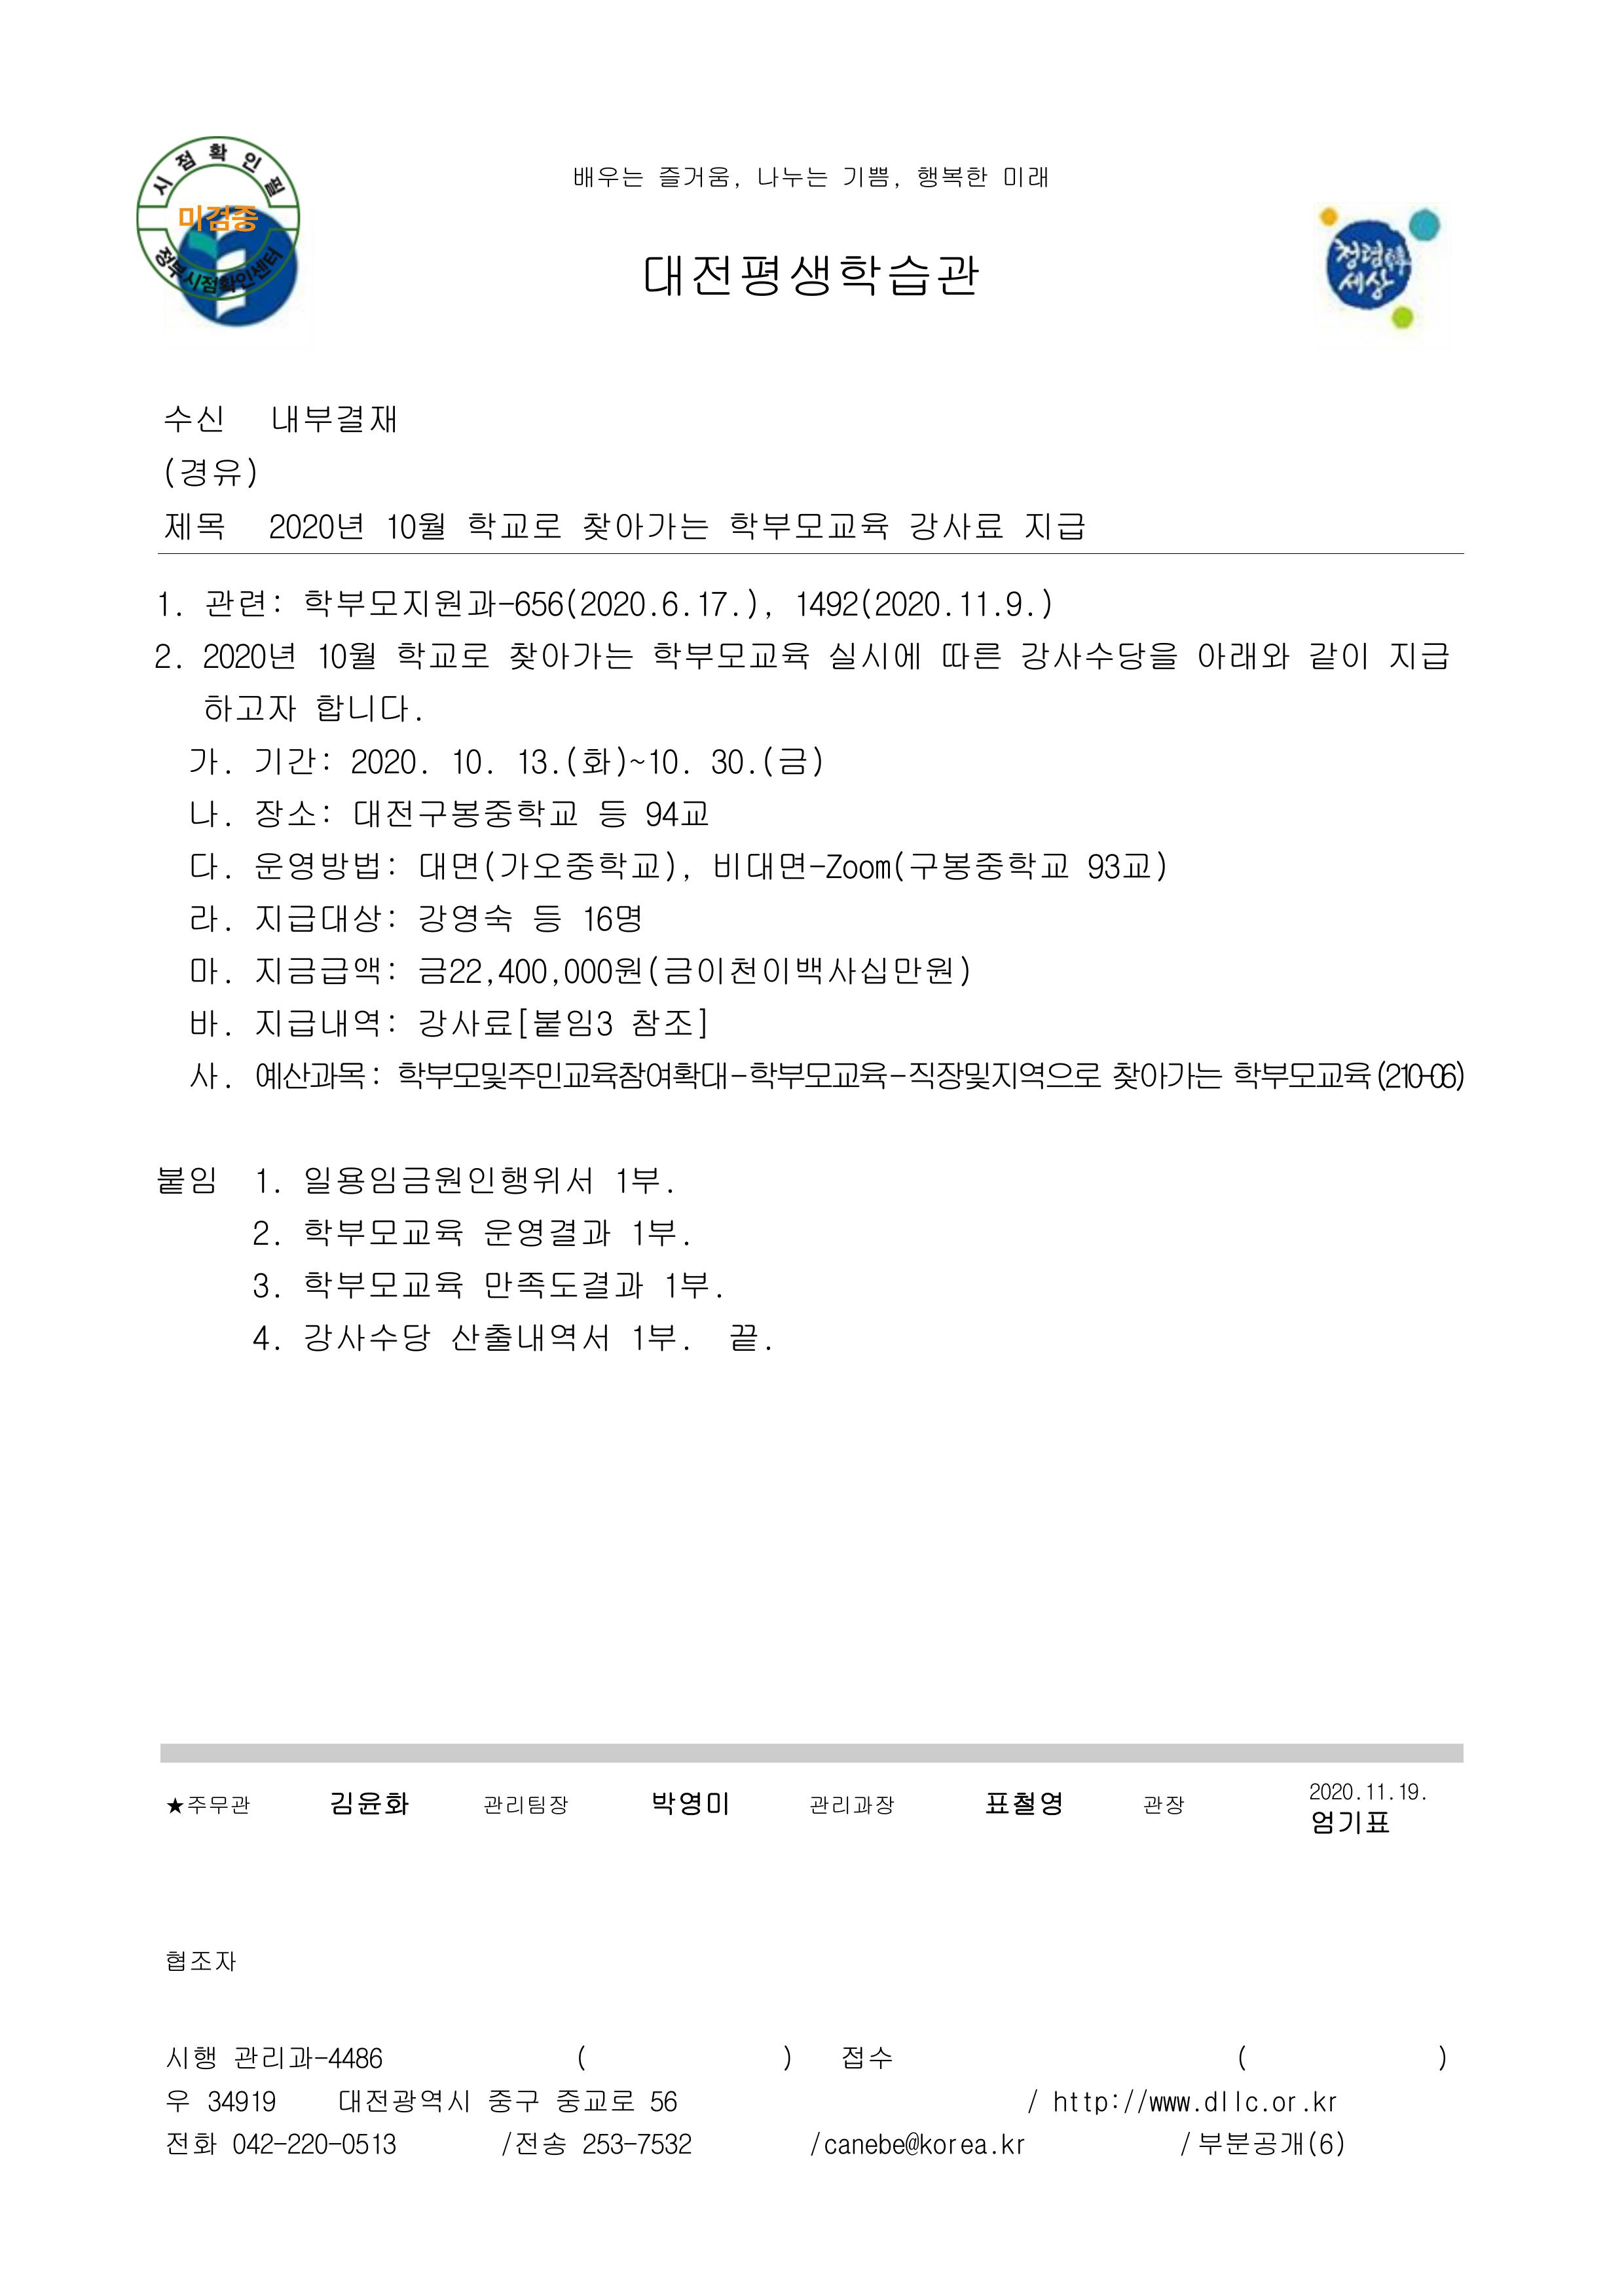t: (642, 251, 982, 304), (301, 583, 773, 620), (394, 1058, 731, 1093), (301, 1162, 596, 1200), (417, 845, 685, 886), (710, 845, 910, 886), (417, 1003, 617, 1044), (352, 796, 580, 831), (761, 954, 972, 989), (903, 1058, 1100, 1093), (907, 845, 1069, 886), (728, 506, 889, 545), (649, 634, 810, 673), (793, 583, 958, 620), (480, 1265, 645, 1300), (255, 845, 397, 886), (1018, 638, 1179, 673), (301, 1216, 462, 1251), (301, 1265, 462, 1300), (448, 1320, 610, 1355), (251, 951, 397, 989), (251, 1003, 397, 1040), (228, 2126, 397, 2158), (251, 900, 397, 935), (745, 1058, 889, 1093), (1230, 1058, 1373, 1093), (559, 742, 691, 778), (1193, 2126, 1345, 2158), (269, 401, 397, 438), (576, 510, 710, 545), (480, 1216, 613, 1251), (301, 1320, 434, 1355), (334, 2082, 473, 2116), (506, 638, 634, 673), (251, 1058, 369, 1093), (1107, 1058, 1223, 1093), (824, 2130, 961, 2158), (576, 2126, 696, 2158), (953, 583, 1055, 620), (156, 455, 262, 490), (311, 689, 417, 724), (417, 900, 520, 935), (265, 510, 366, 545), (903, 510, 1004, 545), (200, 638, 297, 673), (828, 638, 924, 673), (1193, 638, 1290, 673), (200, 689, 297, 724), (642, 951, 728, 989), (1373, 1058, 1466, 1093), (394, 638, 490, 671), (323, 1787, 411, 1822), (466, 510, 562, 541), (176, 200, 258, 237), (204, 583, 286, 620), (251, 742, 334, 778), (627, 1003, 710, 1040), (559, 954, 645, 989), (348, 742, 427, 778), (251, 796, 334, 831), (1083, 849, 1169, 882), (286, 2044, 387, 2072), (1308, 1806, 1390, 1840), (417, 954, 490, 989), (1200, 2089, 1297, 2116), (756, 742, 824, 778), (204, 2082, 279, 2116), (552, 2088, 638, 2116), (649, 1789, 731, 1817), (982, 1789, 1065, 1817), (383, 510, 448, 545), (1018, 510, 1083, 545), (1383, 638, 1448, 673), (1051, 2088, 1123, 2119), (156, 1162, 218, 1198), (566, 162, 645, 190), (656, 162, 735, 190), (752, 162, 831, 190), (1306, 638, 1369, 673), (162, 401, 227, 434), (642, 796, 710, 828), (315, 638, 376, 673), (939, 638, 1000, 673), (580, 900, 642, 935), (914, 162, 990, 190), (169, 1792, 255, 1817), (483, 1792, 569, 1817), (810, 1792, 896, 1817), (162, 510, 227, 541), (627, 1216, 685, 1251), (494, 2130, 566, 2158), (707, 742, 761, 778), (613, 1162, 666, 1198), (483, 2082, 541, 2116), (627, 1320, 680, 1355), (835, 162, 893, 193), (494, 954, 552, 986), (659, 1269, 717, 1300), (228, 2040, 286, 2072), (835, 2040, 893, 2072), (513, 742, 562, 778), (165, 1951, 237, 1975), (162, 2044, 218, 2072), (186, 742, 228, 778), (1338, 239, 1383, 272), (448, 745, 494, 778), (186, 1003, 227, 1040), (1137, 2089, 1193, 2116), (186, 900, 227, 935), (165, 2133, 221, 2158), (186, 849, 227, 882), (186, 796, 227, 828), (186, 954, 227, 986), (186, 1058, 227, 1090), (1000, 165, 1051, 190), (527, 900, 562, 935), (728, 1320, 763, 1355), (596, 796, 627, 831), (728, 954, 761, 986), (1308, 1782, 1355, 1803), (645, 2088, 680, 2116), (1144, 1796, 1183, 1817), (155, 641, 179, 673), (1000, 2133, 1028, 2158), (156, 590, 179, 620), (255, 1169, 279, 1193), (255, 1220, 276, 1248), (255, 1272, 276, 1300), (1396, 1782, 1424, 1803), (1313, 2095, 1341, 2116), (961, 2137, 990, 2158), (255, 1327, 276, 1351), (1362, 1782, 1387, 1803), (169, 2089, 190, 2112)
